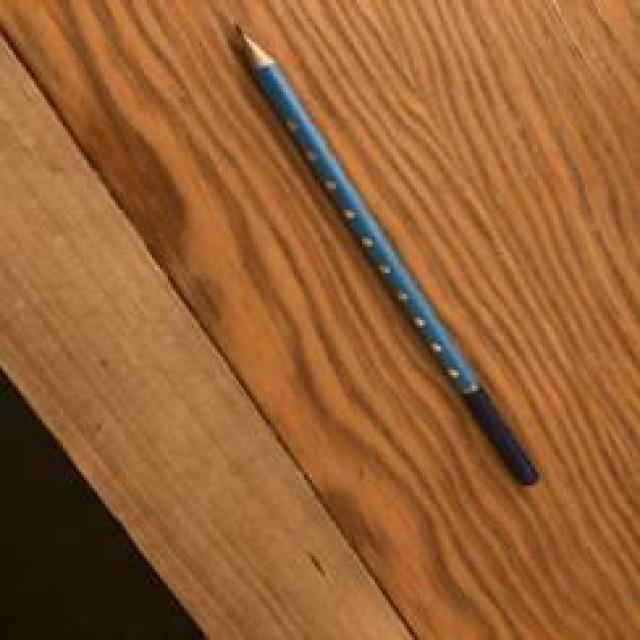pencil: (231, 21, 538, 485)
